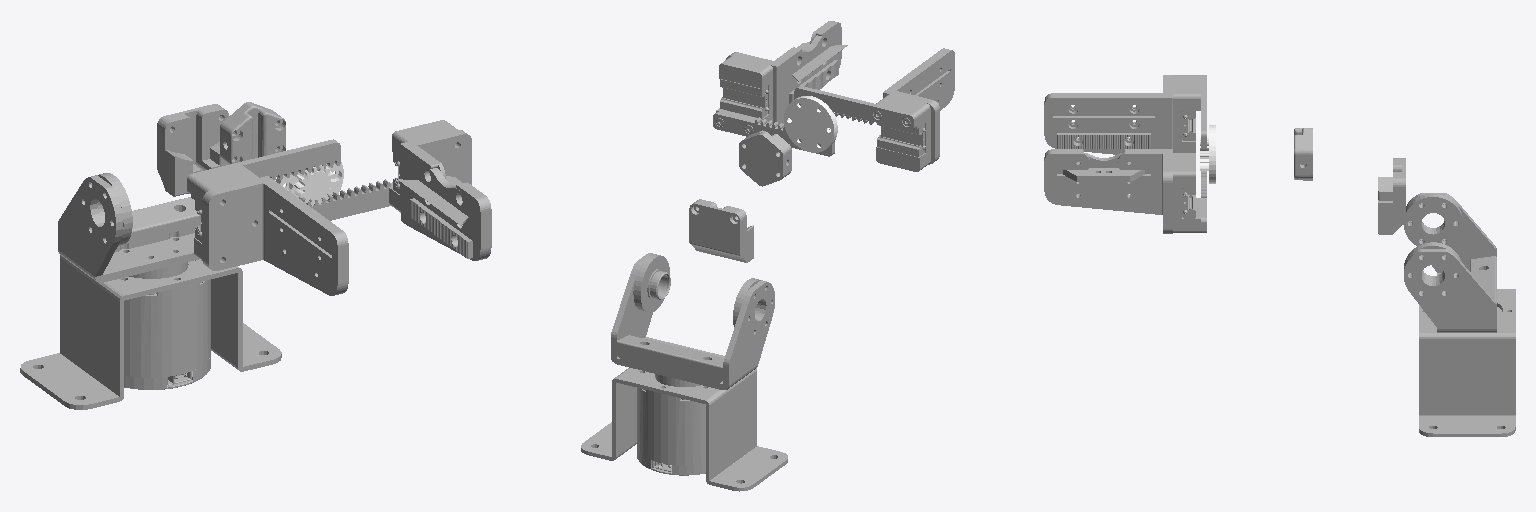
robot.urdf — Tomato-Picker:
<?xml version='1.0' encoding='utf-8'?>
<robot name="Tomato-Picker">
    <!-- Runtime model based on the latest TRLC-DK1-Follower_v0.1 SolidWorks export. -->
    <!-- Project corrections: joint5 velocity=5.4; joint7-2 travel normalized to [0, 0.042]. -->
    <!-- SerialArm-Core controls joint1..joint6 only; joint7/joint7-1/joint7-2 remain true EEF joints in the robot description. -->
    <link name="base_link">
        <inertial>
            <origin xyz="-2.11501490959799E-05 -0.00144740826715667 0.0322476465058773" rpy="0 0 0" />
            <mass value="0.415436775501409" />
            <inertia ixx="0.000171085646208579" ixy="6.22226960350973E-08" ixz="-6.93646963143285E-08" iyy="0.000239490231216667" iyz="-3.147142084145E-07" izz="0.000246021017490432" />
        </inertial>
        <visual>
            <origin xyz="0 0 0" rpy="0 0 0" />
            <geometry>
                <mesh filename="package://tomato_picker_description/meshes/solidworks/base_link.STL" />
            </geometry>
            <material name="">
                <color rgba="0.752941176470588 0.752941176470588 0.752941176470588 1" />
            </material>
        </visual>
        <collision>
            <origin xyz="0 0 0" rpy="0 0 0" />
            <geometry>
                <mesh filename="package://tomato_picker_description/meshes/solidworks/base_link.STL" />
            </geometry>
        </collision>
    </link>
    <link name="Link1">
        <inertial>
            <origin xyz="0.00013120256340471 -0.00462996763909915 0.0160551324398064" rpy="0 0 0" />
            <mass value="0.0898108036954061" />
            <inertia ixx="3.01458023182251E-05" ixy="-3.08627645782109E-13" ixz="5.74928138135833E-14" iyy="9.43703947705632E-05" iyz="7.14014503783573E-06" izz="8.98769673066995E-05" />
        </inertial>
        <visual>
            <origin xyz="0 0 0" rpy="0 0 0" />
            <geometry>
                <mesh filename="package://tomato_picker_description/meshes/solidworks/Link1.STL" />
            </geometry>
            <material name="">
                <color rgba="0.752941176470588 0.752941176470588 0.752941176470588 1" />
            </material>
        </visual>
        <collision>
            <origin xyz="0 0 0" rpy="0 0 0" />
            <geometry>
                <mesh filename="package://tomato_picker_description/meshes/solidworks/Link1.STL" />
            </geometry>
        </collision>
    </link>
    <joint name="joint1" type="revolute">
        <origin xyz="0 0 0.0583" rpy="0 0 0" />
        <parent link="base_link" />
        <child link="Link1" />
        <axis xyz="0 0 1" />
        <limit lower="-2.0944" upper="2.0944" effort="100" velocity="5.4" />
    </joint>
    <link name="Link2">
        <inertial>
            <origin xyz="-0.130492286618881 0.000407835462289008 -0.0275973532245003" rpy="0 0 0" />
            <mass value="1.07002287894776" />
            <inertia ixx="0.00039425233326595" ixy="-4.3083225875181E-05" ixz="-8.72337224304882E-10" iyy="0.00265034639626371" iyz="1.3874667646348E-07" izz="0.00274195695947805" />
        </inertial>
        <visual>
            <origin xyz="0 0 0" rpy="0 0 0" />
            <geometry>
                <mesh filename="package://tomato_picker_description/meshes/solidworks/Link2.STL" />
            </geometry>
            <material name="">
                <color rgba="0.752941176470588 0.752941176470588 0.752941176470588 1" />
            </material>
        </visual>
        <collision>
            <origin xyz="0 0 0" rpy="0 0 0" />
            <geometry>
                <mesh filename="package://tomato_picker_description/meshes/solidworks/Link2.STL" />
            </geometry>
        </collision>
    </link>
    <joint name="joint2" type="revolute">
        <origin xyz="-0.03165 -0.02 0.0385" rpy="1.5708 0 -1.5708" />
        <parent link="Link1" />
        <child link="Link2" />
        <axis xyz="0 0 -1" />
        <limit lower="-0.087266" upper="3.1416" effort="100" velocity="5.4" />
    </joint>
    <link name="Link3">
        <inertial>
            <origin xyz="0.185431979030311 0.0568085470529543 -0.0343115814536119" rpy="0 0 0" />
            <mass value="0.610419134840687" />
            <inertia ixx="0.00018272687511835" ixy="-2.07251991293774E-05" ixz="1.71553098185024E-09" iyy="0.000929390568352284" iyz="1.22228764877407E-07" izz="0.00101290819920923" />
        </inertial>
        <visual>
            <origin xyz="0 0 0" rpy="0 0 0" />
            <geometry>
                <mesh filename="package://tomato_picker_description/meshes/solidworks/Link3.STL" />
            </geometry>
            <material name="">
                <color rgba="0.752941176470588 0.752941176470588 0.752941176470588 1" />
            </material>
        </visual>
        <collision>
            <origin xyz="0 0 0" rpy="0 0 0" />
            <geometry>
                <mesh filename="package://tomato_picker_description/meshes/solidworks/Link3.STL" />
            </geometry>
        </collision>
    </link>
    <joint name="joint3" type="revolute">
        <origin xyz="-0.264 0 0.005" rpy="0 0 0" />
        <parent link="Link2" />
        <child link="Link3" />
        <axis xyz="0 0 1" />
        <limit lower="-0.087266" upper="4.7124" effort="100" velocity="5.4" />
    </joint>
    <link name="Link4">
        <inertial>
            <origin xyz="0.0564499043576966 0.0570692664532358 -0.0330551416377494" rpy="0 0 0" />
            <mass value="0.345655632636913" />
            <inertia ixx="0.000136025053273045" ixy="-1.03835224722586E-05" ixz="6.66423885846155E-08" iyy="0.000174765863062957" iyz="6.24564278353378E-08" izz="0.000116240155814676" />
        </inertial>
        <visual>
            <origin xyz="0 0 0" rpy="0 0 0" />
            <geometry>
                <mesh filename="package://tomato_picker_description/meshes/solidworks/Link4.STL" />
            </geometry>
            <material name="">
                <color rgba="0.752941176470588 0.752941176470588 0.752941176470588 1" />
            </material>
        </visual>
        <collision>
            <origin xyz="0 0 0" rpy="0 0 0" />
            <geometry>
                <mesh filename="package://tomato_picker_description/meshes/solidworks/Link4.STL" />
            </geometry>
        </collision>
    </link>
    <joint name="joint4" type="revolute">
        <origin xyz="0.244 0.06 -0.00365" rpy="0 0 0" />
        <parent link="Link3" />
        <child link="Link4" />
        <axis xyz="0 0 1" />
        <limit lower="-1.95" upper="1.5708" effort="20" velocity="5.4" />
    </joint>
    <link name="Link5">
        <inertial>
            <origin xyz="-7.24577946950743E-05 -0.00748437321301255 0.0351576574526748" rpy="0 0 0" />
            <mass value="0.373823984061805" />
            <inertia ixx="9.19669607945633E-05" ixy="1.22227734964862E-07" ixz="7.94676694571831E-08" iyy="0.000127034350650999" iyz="-8.23091733611208E-07" izz="9.03001414231924E-05" />
        </inertial>
        <visual>
            <origin xyz="0 0 0" rpy="0 0 0" />
            <geometry>
                <mesh filename="package://tomato_picker_description/meshes/solidworks/Link5.STL" />
            </geometry>
            <material name="">
                <color rgba="0.752941176470588 0.752941176470588 0.752941176470588 1" />
            </material>
        </visual>
        <collision>
            <origin xyz="0 0 0" rpy="0 0 0" />
            <geometry>
                <mesh filename="package://tomato_picker_description/meshes/solidworks/Link5.STL" />
            </geometry>
        </collision>
    </link>
    <joint name="joint5" type="revolute">
        <origin xyz="0.0619999999999999 0.036 -0.0330000000000007" rpy="1.5707963267949 -1.5707963267949 0" />
        <parent link="Link4" />
        <child link="Link5" />
        <axis xyz="0 0 1" />
        <limit lower="-1.5708" upper="1.5708" effort="20" velocity="5.4" />
    </joint>
    <link name="Link6">
        <inertial>
            <origin xyz="-0.000485908838923044 0.00835307348685735 0.0378063045460189" rpy="0 0 0" />
            <mass value="0.785649631359557" />
            <inertia ixx="0.000125066292327439" ixy="1.64279447954322E-06" ixz="-5.35093272842772E-06" iyy="0.000594493708836635" iyz="5.93121308364284E-07" izz="0.000638314910848172" />
        </inertial>
        <visual>
            <origin xyz="0 0 0" rpy="0 0 0" />
            <geometry>
                <mesh filename="package://tomato_picker_description/meshes/solidworks/Link6.STL" />
            </geometry>
            <material name="">
                <color rgba="0.752941176470588 0.752941176470588 0.752941176470588 1" />
            </material>
        </visual>
        <collision>
            <origin xyz="0 0 0" rpy="0 0 0" />
            <geometry>
                <mesh filename="package://tomato_picker_description/meshes/solidworks/Link6.STL" />
            </geometry>
        </collision>
    </link>
    <joint name="joint6" type="revolute">
        <origin xyz="0 -0.035 0.036" rpy="-1.5708 0 3.1416" />
        <parent link="Link5" />
        <child link="Link6" />
        <axis xyz="0 0 -1" />
        <limit lower="-2.0944" upper="2.0944" effort="20" velocity="5.4" />
    </joint>
    <link name="tool0" />
    <joint name="tool0_joint" type="fixed">
        <origin xyz="0 0 0.051" rpy="0 0 0" />
        <parent link="Link6" />
        <child link="tool0" />
    </joint>
    <link name="Link7">
        <inertial>
            <origin xyz="7.37257477290143E-17 -3.88578058618805E-16 0.00328598692804025" rpy="0 0 0" />
            <mass value="0.00643315957914466" />
            <inertia ixx="3.53348528818677E-07" ixy="-5.93152738510624E-23" ixz="-6.12950015022911E-22" iyy="3.53348528818676E-07" iyz="2.75012621945132E-22" izz="6.37853660720428E-07" />
        </inertial>
        <visual>
            <origin xyz="0 0 0" rpy="0 0 0" />
            <geometry>
                <mesh filename="package://tomato_picker_description/meshes/solidworks/Link7.STL" />
            </geometry>
            <material name="">
                <color rgba="1 1 1 1" />
            </material>
        </visual>
        <collision>
            <origin xyz="0 0 0" rpy="0 0 0" />
            <geometry>
                <mesh filename="package://tomato_picker_description/meshes/solidworks/Link7.STL" />
            </geometry>
        </collision>
    </link>
    <joint name="joint7" type="revolute">
        <origin xyz="0 0 0.051" rpy="0 0 0" />
        <parent link="Link6" />
        <child link="Link7" />
        <axis xyz="0 0 -1" />
        <limit lower="0" upper="9.7674" effort="20" velocity="5.4" />
    </joint>
    <link name="Link7-1">
        <inertial>
            <origin xyz="0.0214114983616174 -0.0213844568962843 -0.0178005213090296" rpy="0 0 0" />
            <mass value="0.0946406383916538" />
            <inertia ixx="3.65759984292604E-05" ixy="5.58767011345612E-06" ixz="-4.39180078308887E-08" iyy="1.7153718468295E-05" iyz="9.52553839575001E-07" izz="3.54005904231885E-05" />
        </inertial>
        <visual>
            <origin xyz="0 0 0" rpy="0 0 0" />
            <geometry>
                <mesh filename="package://tomato_picker_description/meshes/solidworks/Link7-1.STL" />
            </geometry>
            <material name="">
                <color rgba="0.752941176470588 0.752941176470588 0.752941176470588 1" />
            </material>
        </visual>
        <collision>
            <origin xyz="0 0 0" rpy="0 0 0" />
            <geometry>
                <mesh filename="package://tomato_picker_description/meshes/solidworks/Link7-1.STL" />
            </geometry>
        </collision>
    </link>
    <joint name="joint7-1" type="prismatic">
        <origin xyz="-0.068092 0.019092 0.068" rpy="-1.5708 0 0" />
        <parent link="Link6" />
        <child link="Link7-1" />
        <axis xyz="-1 0 0" />
        <limit lower="0" upper="0.042" effort="20" velocity="0.02322" />
    </joint>
    <link name="Link7-2">
        <inertial>
            <origin xyz="0.022383049367254 0.02134017927956 -0.019540160279556" rpy="0 0 0" />
            <mass value="0.0949054800343942" />
            <inertia ixx="3.73735382445307E-05" ixy="-5.50196271440212E-06" ixz="9.55698005262612E-08" iyy="1.68112601539753E-05" iyz="-6.63336745217433E-07" izz="3.68673276070041E-05" />
        </inertial>
        <visual>
            <origin xyz="0 0 0" rpy="0 0 0" />
            <geometry>
                <mesh filename="package://tomato_picker_description/meshes/solidworks/Link7-2.STL" />
            </geometry>
            <material name="">
                <color rgba="0.752941176470588 0.752941176470588 0.752941176470588 1" />
            </material>
        </visual>
        <collision>
            <origin xyz="0 0 0" rpy="0 0 0" />
            <geometry>
                <mesh filename="package://tomato_picker_description/meshes/solidworks/Link7-2.STL" />
            </geometry>
        </collision>
    </link>
    <joint name="joint7-2" type="prismatic">
        <origin xyz="0.0686415494309188 0.0190915494308821 0.0695000000001406" rpy="1.5707963267949 0 -3.14159265358979" />
        <parent link="Link6" />
        <child link="Link7-2" />
        <axis xyz="-1 0 0" />
        <limit lower="0" upper="0.042" effort="20" velocity="0.02322" />
    </joint>
    <link name="tip" />
    <joint name="tip_joint" type="fixed">
        <origin xyz="0 0 0.101" rpy="0 0 0" />
        <parent link="tool0" />
        <child link="tip" />
    </joint>
</robot>

--- Render facts (derived) ---
Views: 3 orthographic renders of the robot side by side, from view 1: azimuth 30°, elevation 25°; view 2: azimuth 150°, elevation 25°; view 3: azimuth 270°, elevation 25°.
Model Tomato-Picker with 12 links and 11 joints (7 revolute, 2 prismatic, 2 fixed), rooted at base_link, posed all joints at 0.
Visible links, largest first — view 1: base_link, Link7-1, Link7-2, Link1, Link6, Link7; view 2: base_link, Link1, Link7-2, Link7-1, Link7, Link6; view 3: base_link, Link1, Link7-2, Link7-1, Link6, Link7.
Boxes of the visible links, x1=… form: base_link: x1=20, y1=104, x2=281, y2=409; Link7-1: x1=187, y1=139, x2=348, y2=295; Link7-2: x1=306, y1=120, x2=491, y2=260; Link1: x1=58, y1=173, x2=199, y2=282; Link6: x1=220, y1=102, x2=285, y2=163; Link7: x1=276, y1=145, x2=343, y2=205; base_link: x1=581, y1=199, x2=787, y2=491; Link1: x1=611, y1=253, x2=774, y2=389; Link7-2: x1=713, y1=21, x2=847, y2=156; Link7-1: x1=794, y1=48, x2=954, y2=171; Link7: x1=784, y1=96, x2=837, y2=152; Link6: x1=739, y1=130, x2=791, y2=186; base_link: x1=1378, y1=158, x2=1515, y2=436; Link1: x1=1404, y1=193, x2=1496, y2=332; Link7-2: x1=1044, y1=149, x2=1206, y2=233; Link7-1: x1=1044, y1=75, x2=1206, y2=154; Link6: x1=1294, y1=128, x2=1312, y2=180; Link7: x1=1200, y1=125, x2=1215, y2=183.
Bounding box of the posed robot: 0.144 × 0.2775 × 0.1768 m (x, y, z).
Meshes: 10 distinct files referenced, 6 mesh visuals loaded (6 binary STL); not drawn: 4 (reference not matched to a file when rendering).
